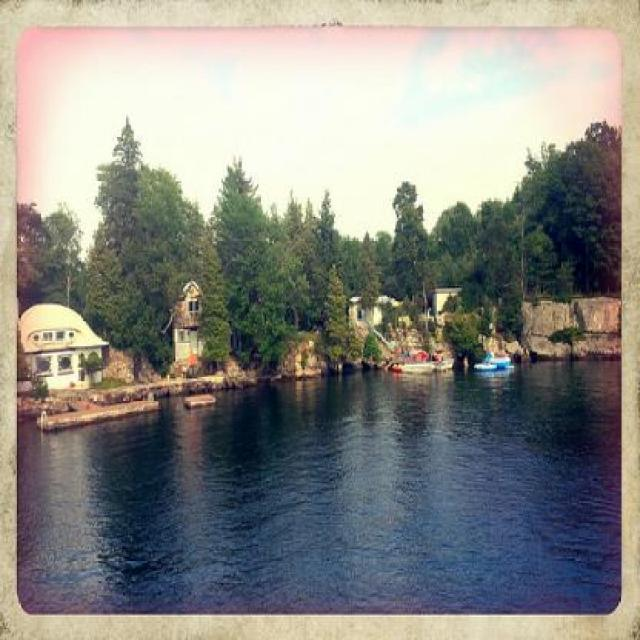ship: (392, 347, 433, 371), (474, 350, 509, 367), (432, 347, 454, 365)
